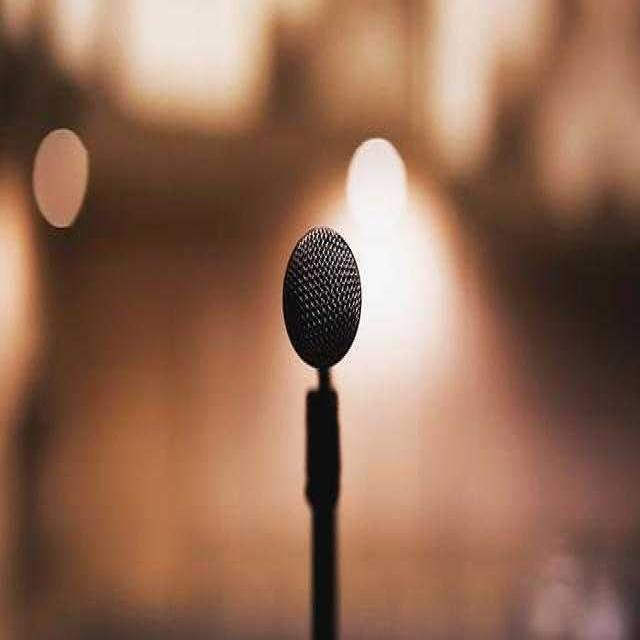microphone: (278, 215, 369, 639)
